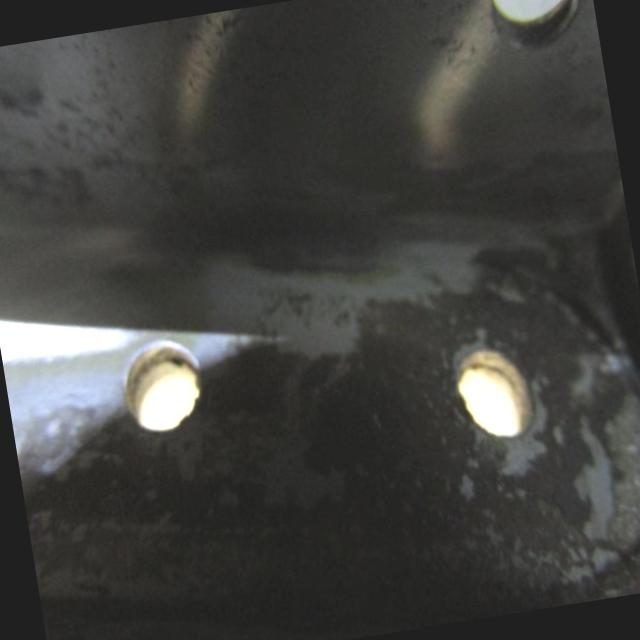Missing Fastener: (432, 314, 546, 459), (100, 320, 228, 444), (463, 0, 598, 51)
